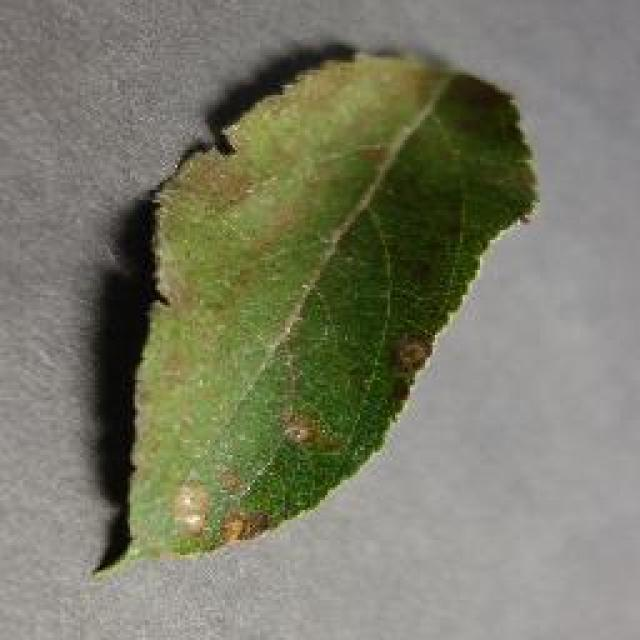apple healthy: (100, 42, 540, 568)
